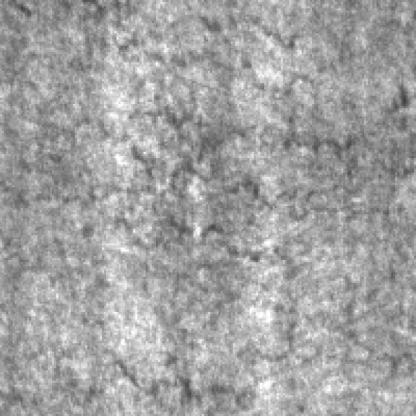crazing: (17, 108, 414, 268), (62, 19, 337, 187), (98, 291, 412, 416)
